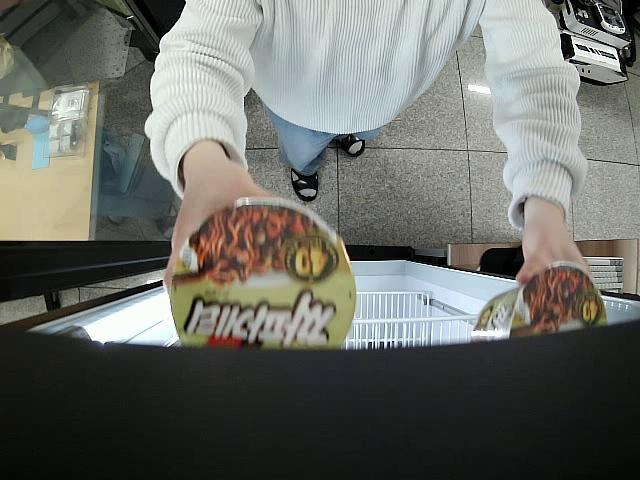00_hand: (163, 159, 287, 295), (516, 209, 591, 287)
03_chapagetti_L: (168, 198, 357, 344), (476, 266, 609, 345)
